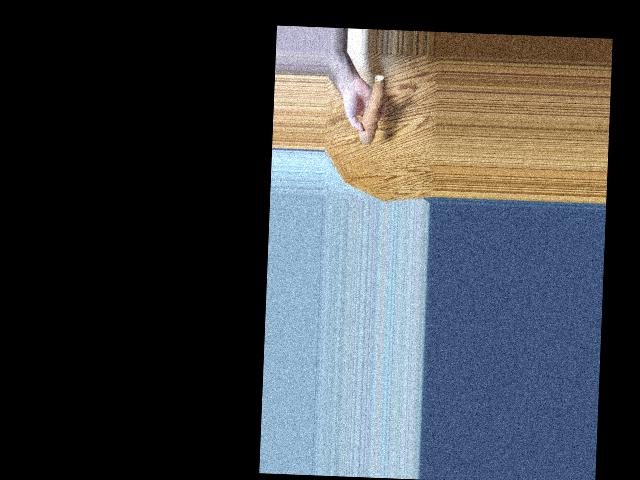sweet_potato: (361, 76, 385, 150)
